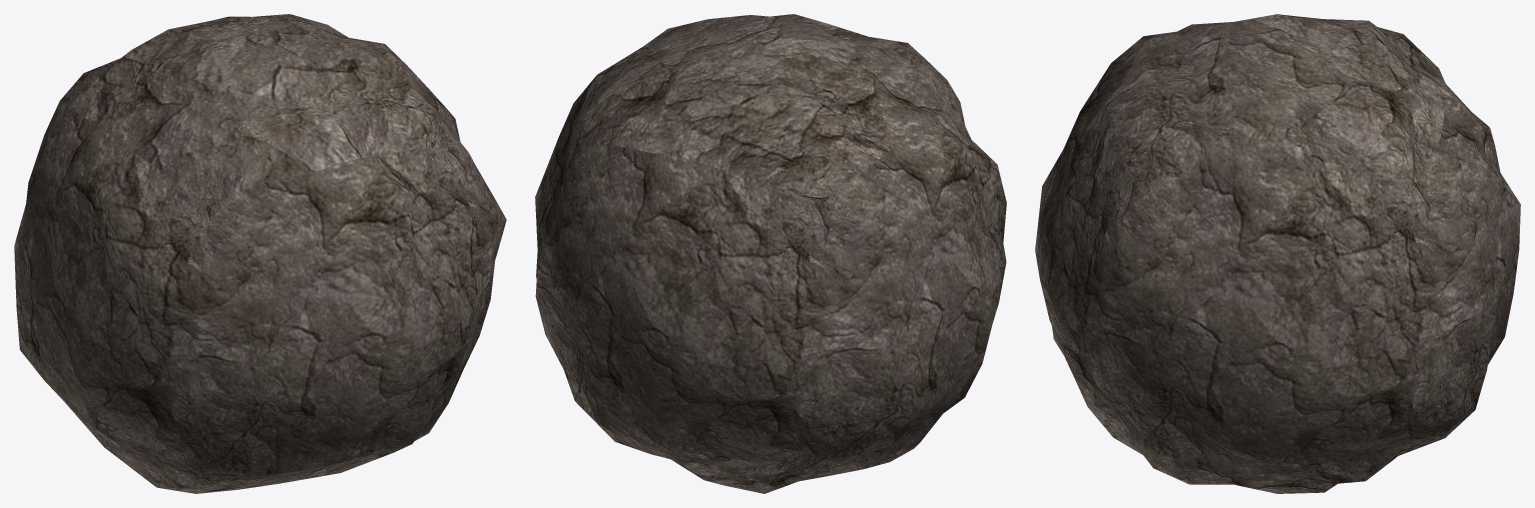
The picture shows the model from 3 angles, left to right: view 1: azimuth 30°, elevation 25°; view 2: azimuth 150°, elevation 25°; view 3: azimuth 270°, elevation 25°; orthographic projection.
Parts seen in each view (by area): view 1: Rock; view 2: Rock; view 3: Rock.
Boxes of the visible parts, box(x1,y1,x2,y2) form: Rock: box(14, 14, 506, 493); Rock: box(535, 14, 1006, 493); Rock: box(1035, 14, 1520, 493).
Size of the model in its own units: 1.69 by 1.73 by 1.73.
Materials: 1 (1 with a texture image).
